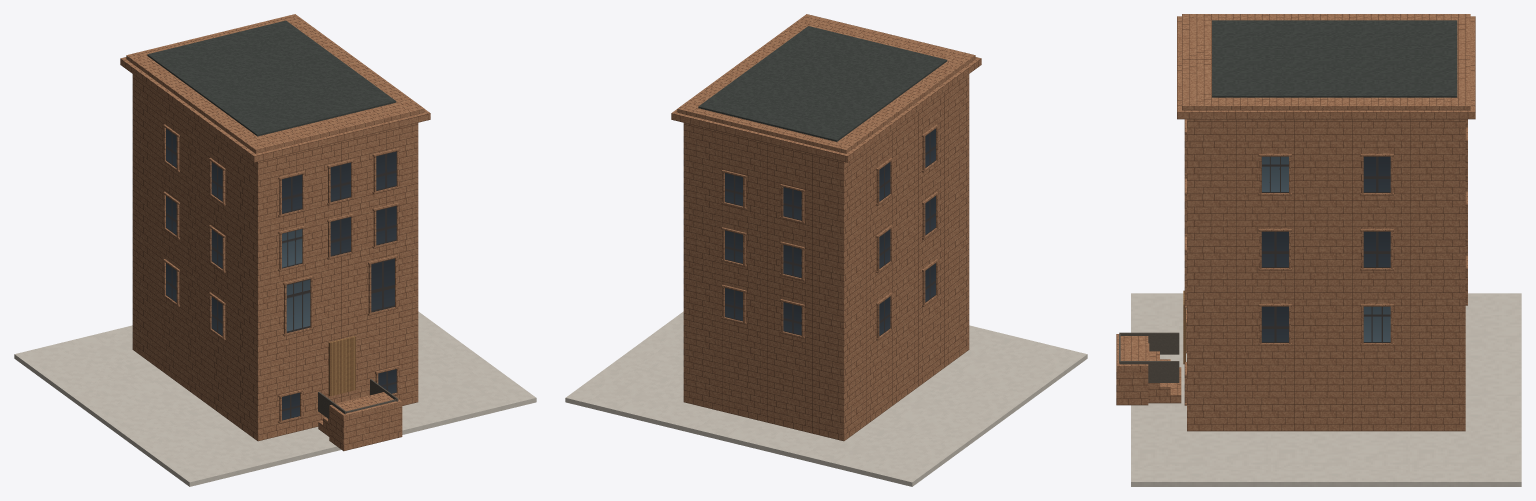
File: perry.gltf
3 views of the same model, side by side, from view 1: azimuth 30°, elevation 25°; view 2: azimuth 150°, elevation 25°; view 3: azimuth 270°, elevation 25° (orthographic). The views are drawn at different scales.
Visible parts, largest first — view 1: PerryStreet; view 2: PerryStreet; view 3: PerryStreet.
Part boxes in pixels (x1,y1,x2,y2): PerryStreet: [14, 14, 536, 486]; PerryStreet: [565, 14, 1087, 486]; PerryStreet: [1116, 14, 1521, 486].
Size of the model in its own units: 16 by 13.23 by 14.53.
6 materials, 6 textured.
